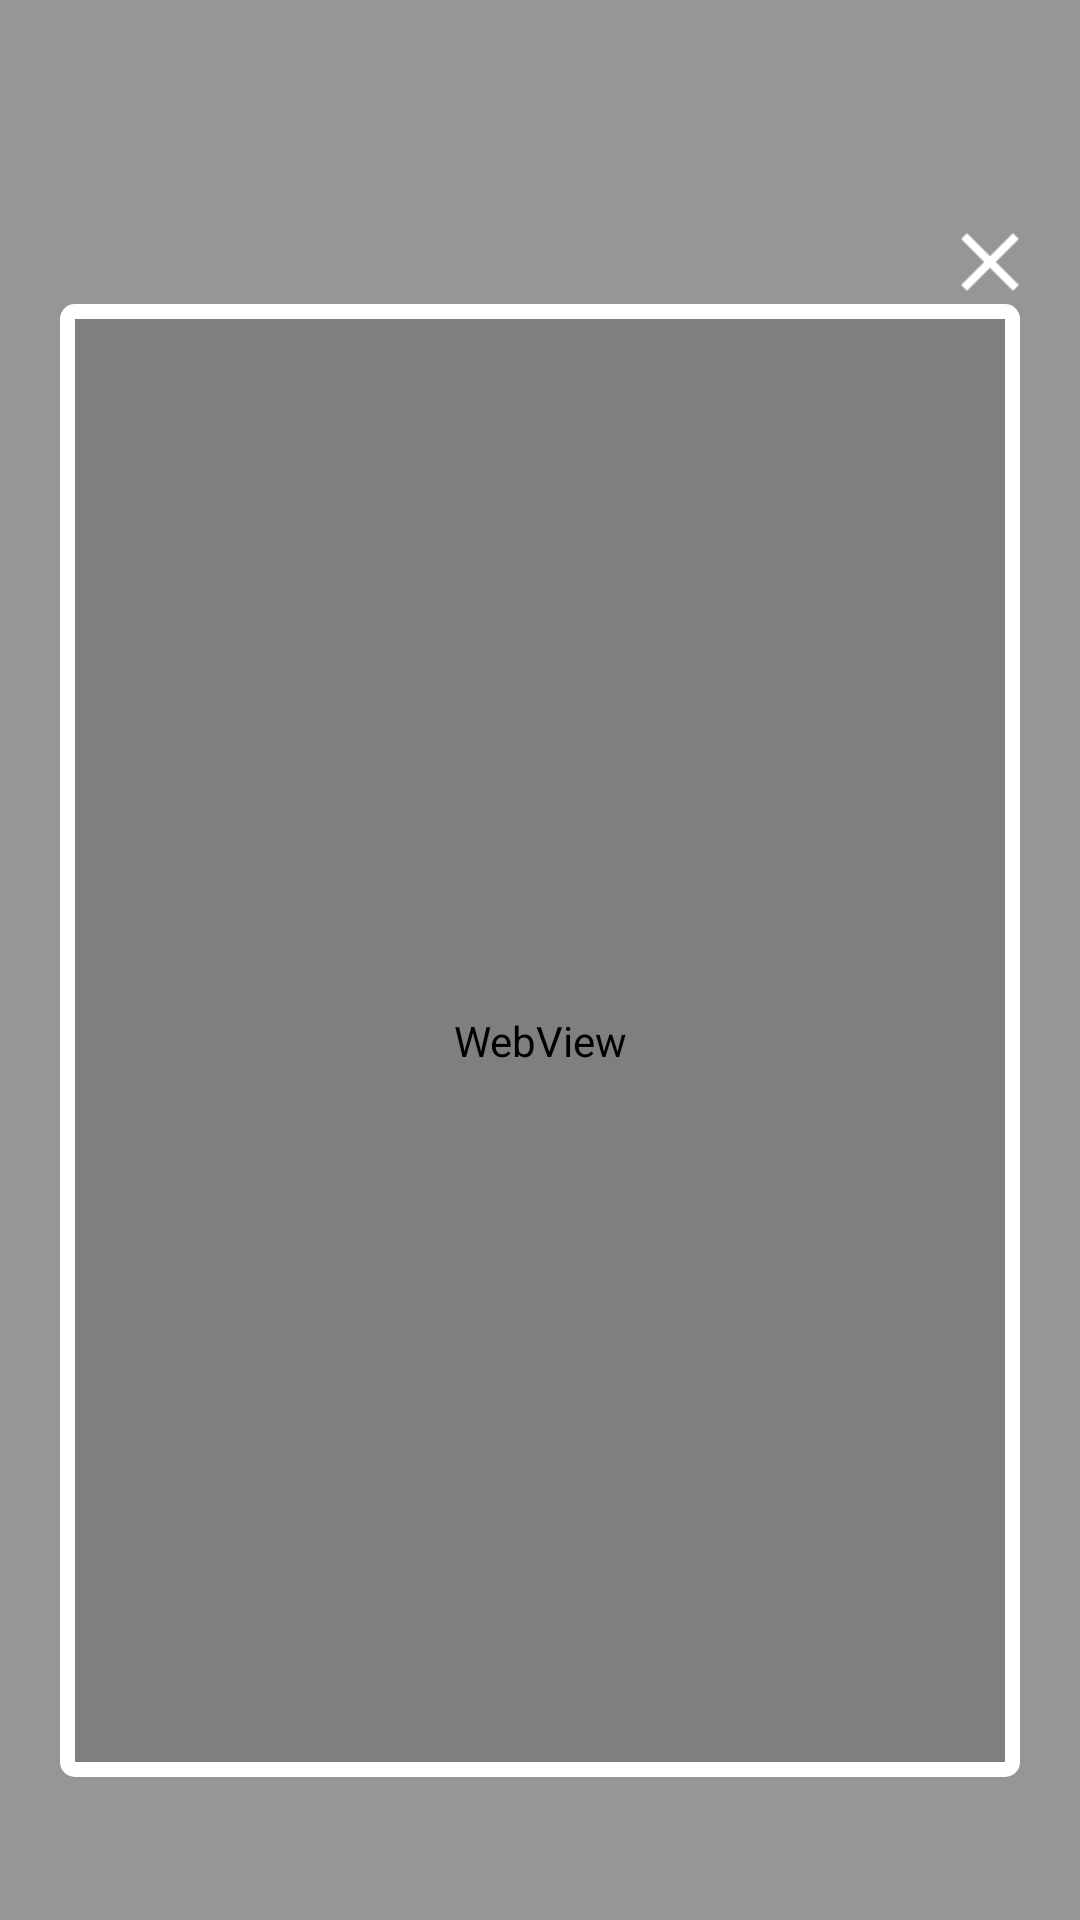

Icons on this 1080w x 1920h Android screen, each with the point to tap as [x,y]:
close: [990,262]
